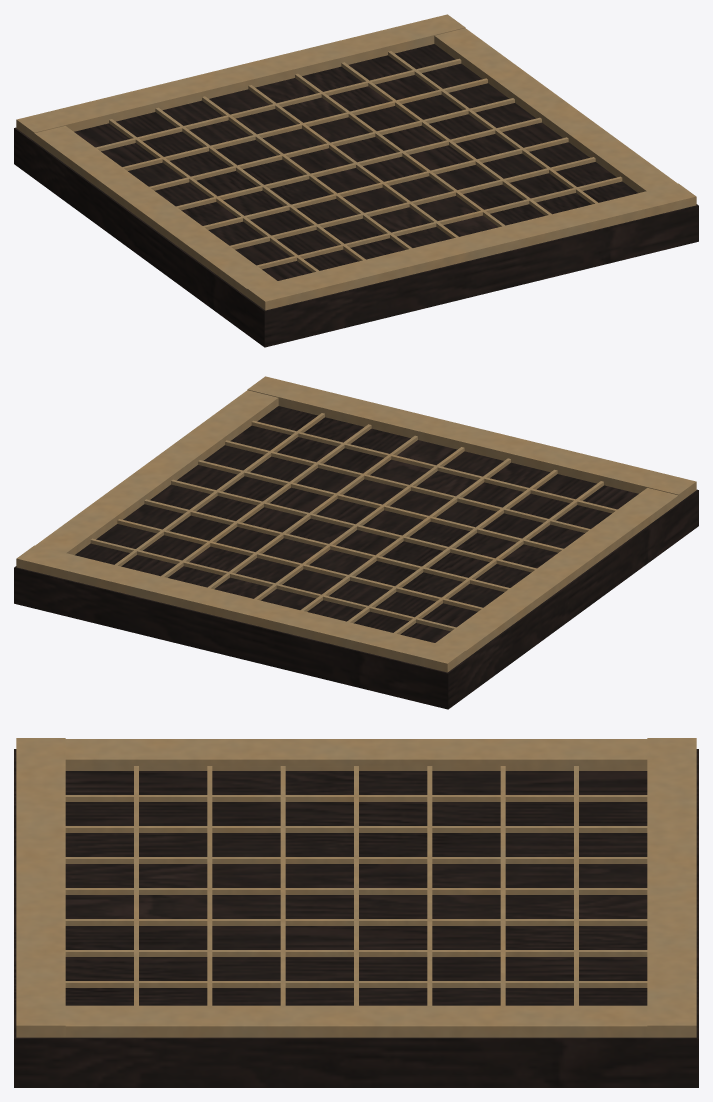
File: board.glb
3 renders of one model, top to bottom at view 1: azimuth 30°, elevation 25°; view 2: azimuth 150°, elevation 25°; view 3: azimuth 270°, elevation 25°, orthographic. The views are drawn at different scales.
Visible parts, largest first — view 1: board-convcol; view 2: board-convcol; view 3: board-convcol.
Boxes of the visible parts, <box> form: board-convcol: <box>14,14,698,347</box>; board-convcol: <box>14,376,698,709</box>; board-convcol: <box>14,738,698,1087</box>.
Bounding box in the file's own units: 0.413 × 0.0407 × 0.413.
1 material, 1 textured.
